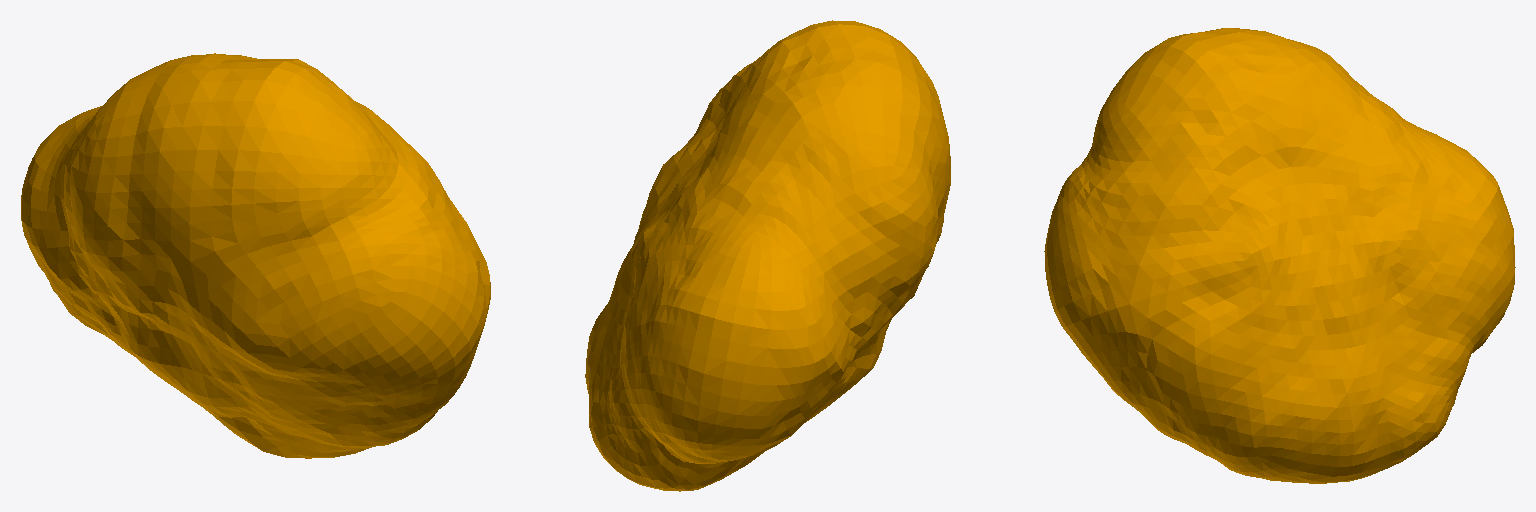
The robot description file, URDF, robot "rock":
<?xml version="1.0" ?>
<robot name="rock">
  <link name="rock">
    <inertial>
      <mass value="0.263"/>
      <origin rpy="0 0 0" xyz="0 0 0"/>
      <inertia ixx="0.000263" ixy="0" ixz="0" iyy="0.000263" iyz="0" izz="0.000263"/>
    </inertial>
    <collision name="rock_collision">
      <origin rpy="0 0 0" xyz="0 0 0"/>
      <geometry>
        <mesh filename="package://rocks/visual/232.dae" scale="1 1 1"/>
      </geometry>
    </collision>
    <visual name="rock_visual">
      <origin rpy="0 0 0" xyz="0 0 0"/>
      <geometry>
        <mesh filename="package://rocks/visual/232.dae" scale="1 1 1"/>
      </geometry>
    </visual>
  </link>
</robot>

--- Render facts (derived) ---
3 views of the same robot in one strip: view 1: azimuth 30°, elevation 25°; view 2: azimuth 150°, elevation 25°; view 3: azimuth 270°, elevation 25° (orthographic).
Robot: rock — 1 links, 0 joints (none); root link rock; default pose: every joint at zero.
Visible links, largest first — view 1: rock; view 2: rock; view 3: rock.
Link boxes in pixels (x1,y1,x2,y2): rock: [21, 53, 490, 458]; rock: [585, 20, 950, 491]; rock: [1044, 28, 1515, 483].
Size in the robot's own frame: 0.0773 by 0.1043 by 0.0955 metres.
Meshes: 1 distinct files referenced, 1 mesh visuals loaded (1 Collada DAE).